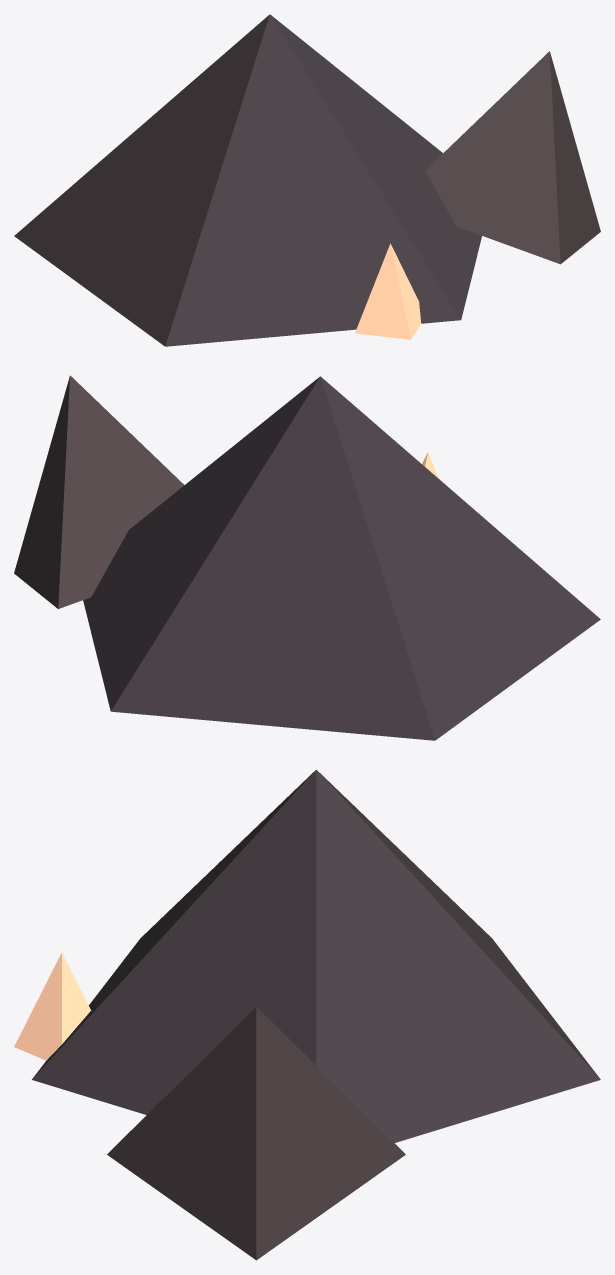
The model's file is ville_biome_obsidienne.glb.
3 renders of one model, top to bottom at view 1: azimuth 30°, elevation 25°; view 2: azimuth 150°, elevation 25°; view 3: azimuth 270°, elevation 25°, orthographic. The views are drawn at different scales.
Parts seen in each view (by area): view 1: biome_obsidienne; view 2: biome_obsidienne; view 3: biome_obsidienne.
Part boxes in pixels (x1,y1,x2,y2): biome_obsidienne: (14, 14, 600, 346); biome_obsidienne: (14, 375, 600, 740); biome_obsidienne: (14, 769, 600, 1260).
Bounding box in the file's own units: 2.18 × 1.17 × 1.96.
